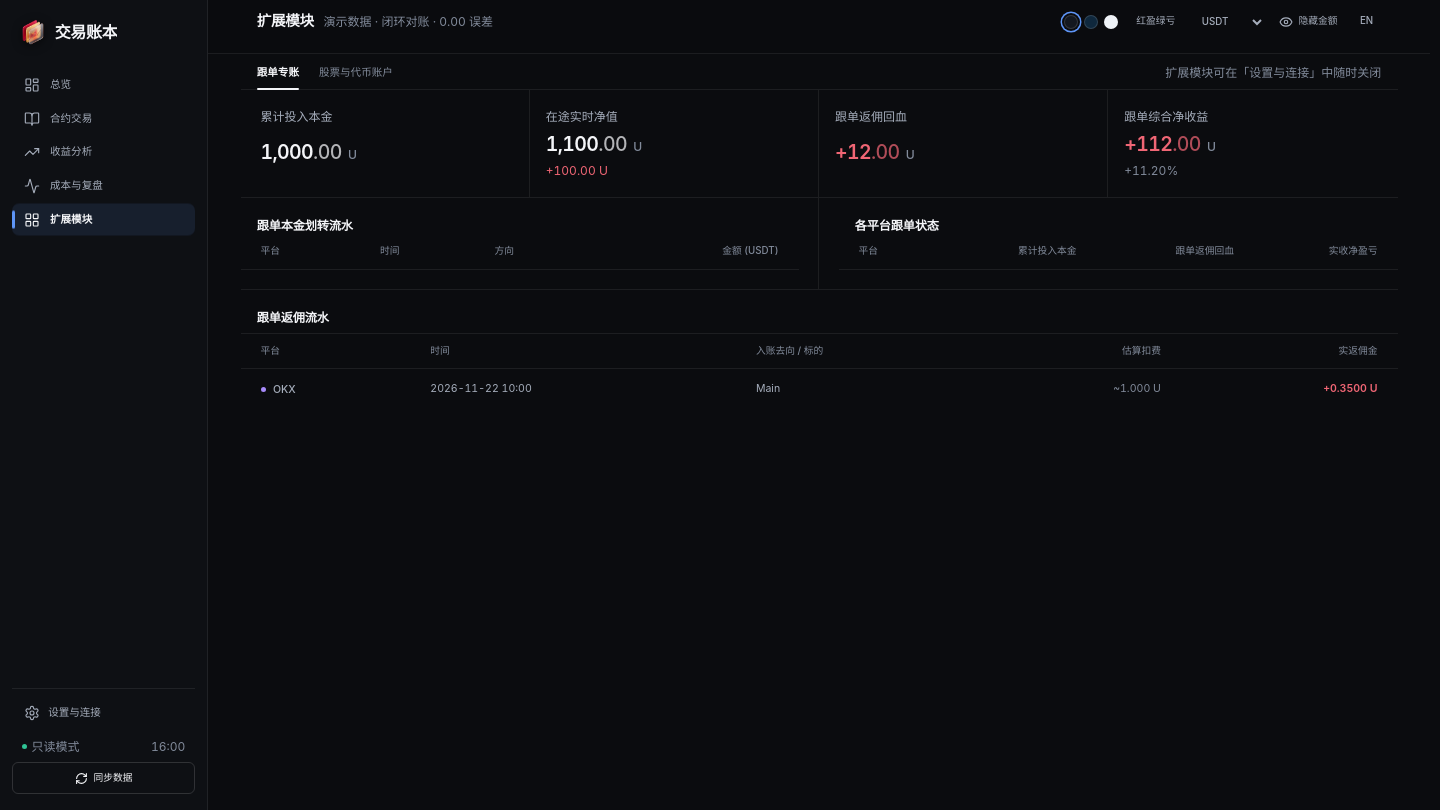
Test: extension routes › restores the default and explicit extension tabs through back and forward
The width and height of the screenshot is (1440, 810).
Later steps or results of the test are not shown.
Expected: the element with test id "copy-module-view" is shown, [240, 90, 1398, 429]
Click the button with test id "ext-tab-stock" at (356, 73), box [319, 57, 393, 89]
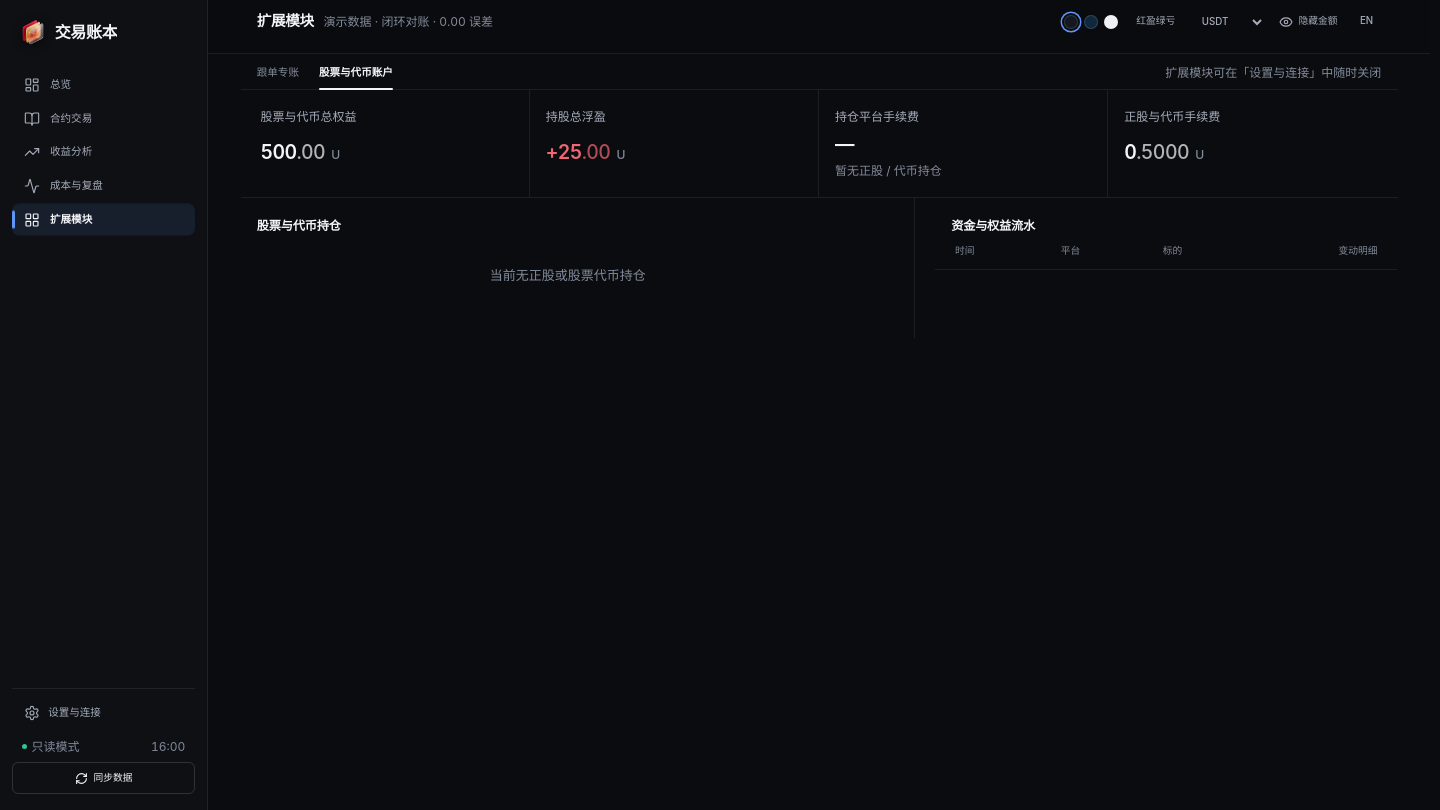
Result: the element with test id "stock-module-view" is shown at [240, 90, 1398, 338]
